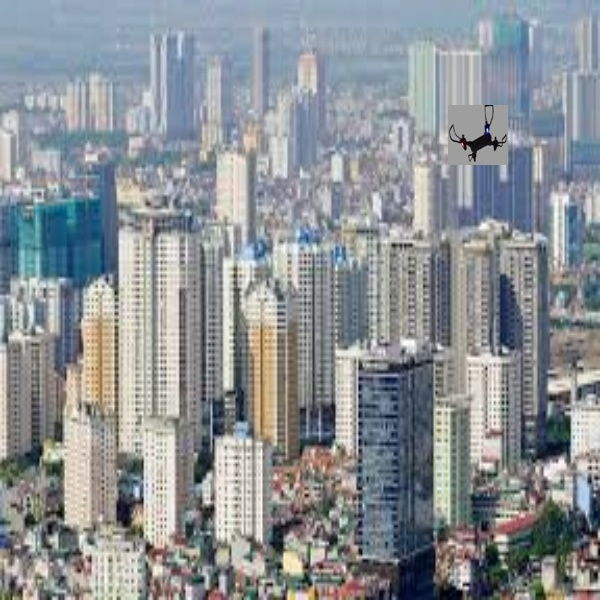drone: (447, 104, 510, 166)
